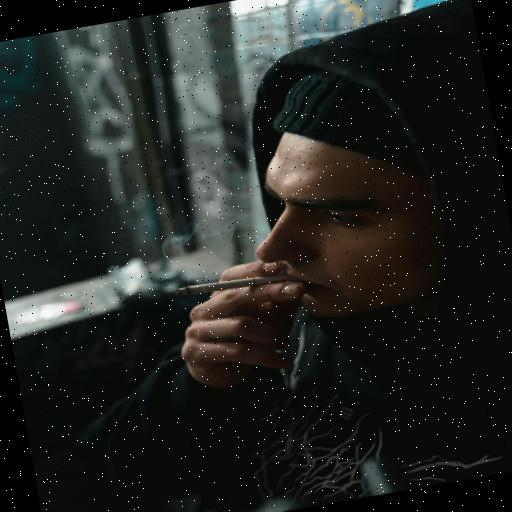terdeteksi merokok: (126, 119, 366, 364)
